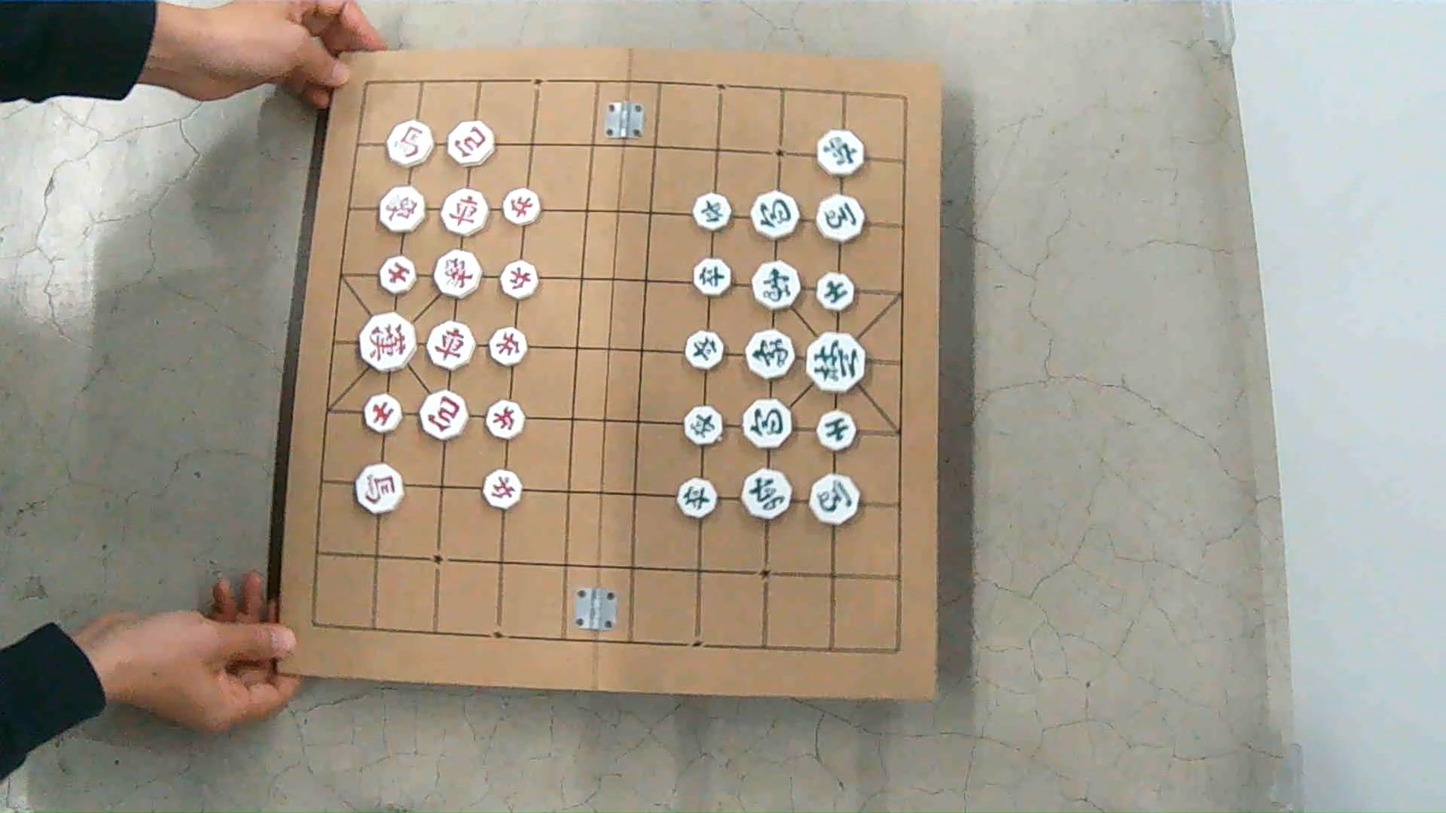cha_green: (742, 469, 791, 519), (816, 130, 864, 176)
cha_red: (426, 322, 474, 370), (441, 189, 487, 236)
jol_green: (677, 478, 716, 518), (683, 406, 723, 445), (685, 330, 723, 370), (694, 257, 731, 296), (693, 193, 731, 230)
jol_red: (485, 400, 524, 439), (500, 260, 538, 299), (484, 469, 521, 509), (489, 327, 526, 366), (502, 188, 540, 225)
ma_green: (810, 474, 859, 524), (816, 194, 864, 242)
ma_red: (355, 464, 404, 514), (386, 120, 433, 167)
po_green: (743, 398, 792, 448), (752, 191, 800, 239)
po_red: (419, 391, 466, 440), (447, 120, 493, 166)
sa_green: (817, 410, 855, 450), (816, 273, 853, 312)
sa_red: (378, 255, 416, 294), (363, 394, 401, 433)
sang_green: (746, 330, 795, 379), (752, 261, 801, 309)
sang_red: (433, 250, 480, 298), (378, 186, 424, 232)
wang_green: (806, 331, 865, 392)
wang_red: (358, 312, 416, 371)
